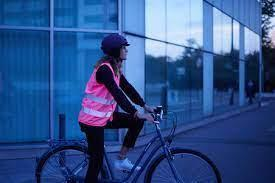Vest: (79, 64, 123, 125)
